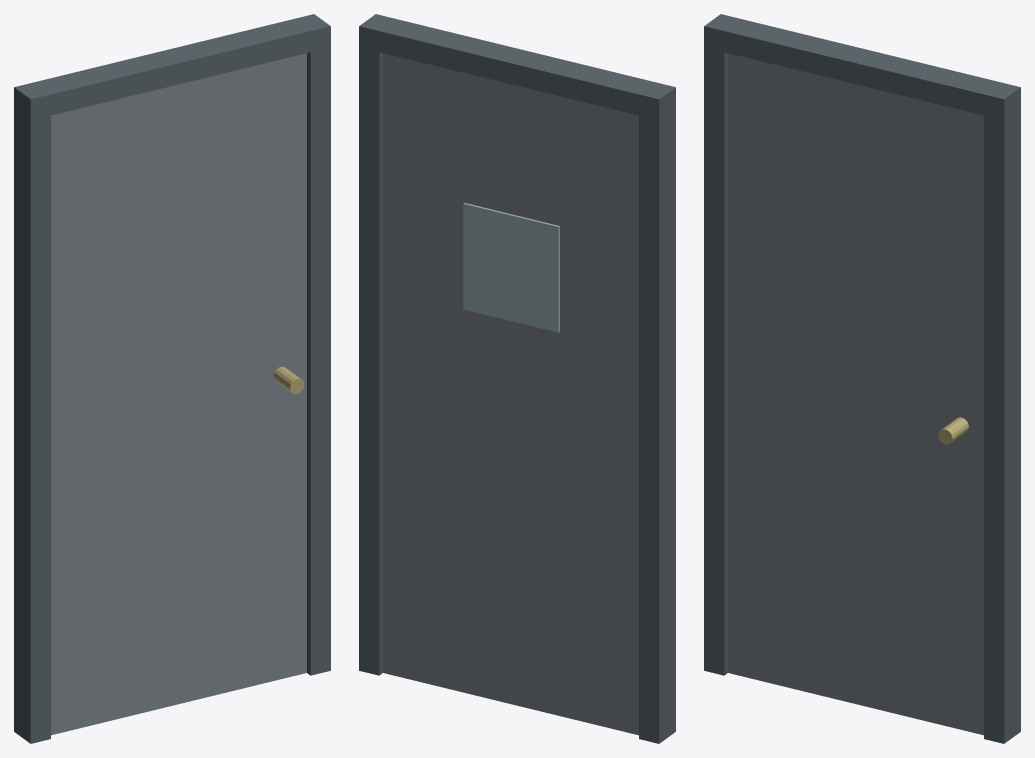
3 views of the same model, side by side, from view 1: azimuth 30°, elevation 25°; view 2: azimuth 150°, elevation 25°; view 3: azimuth 330°, elevation 25° (orthographic).
Parts seen in each view (by area): view 1: 000_Door_slab, 001_Hinge_side_frame, 002_Latch_side_frame, 003_Top_lintel, 005_Round_door_handle; view 2: 000_Door_slab, 001_Hinge_side_frame, 002_Latch_side_frame, 003_Top_lintel, 004_Door_vision_glass; view 3: 000_Door_slab, 002_Latch_side_frame, 001_Hinge_side_frame, 003_Top_lintel, 005_Round_door_handle.
Part boxes in pixels (left/top/right/bottom): 000_Door_slab: left=51, top=53, right=306, bottom=735; 001_Hinge_side_frame: left=14, top=98, right=50, bottom=743; 002_Latch_side_frame: left=307, top=37, right=330, bottom=675; 003_Top_lintel: left=14, top=14, right=330, bottom=119; 005_Round_door_handle: left=273, top=366, right=304, bottom=393; 000_Door_slab: left=383, top=53, right=638, bottom=735; 001_Hinge_side_frame: left=639, top=98, right=675, bottom=743; 002_Latch_side_frame: left=359, top=37, right=382, bottom=675; 003_Top_lintel: left=359, top=14, right=675, bottom=120; 004_Door_vision_glass: left=463, top=203, right=559, bottom=332; 000_Door_slab: left=728, top=53, right=983, bottom=735; 002_Latch_side_frame: left=984, top=98, right=1020, bottom=743; 001_Hinge_side_frame: left=704, top=37, right=727, bottom=675; 003_Top_lintel: left=704, top=14, right=1020, bottom=119; 005_Round_door_handle: left=938, top=417, right=968, bottom=444.
Bounding box in the file's own units: 1.04 × 2.13 × 0.176.
